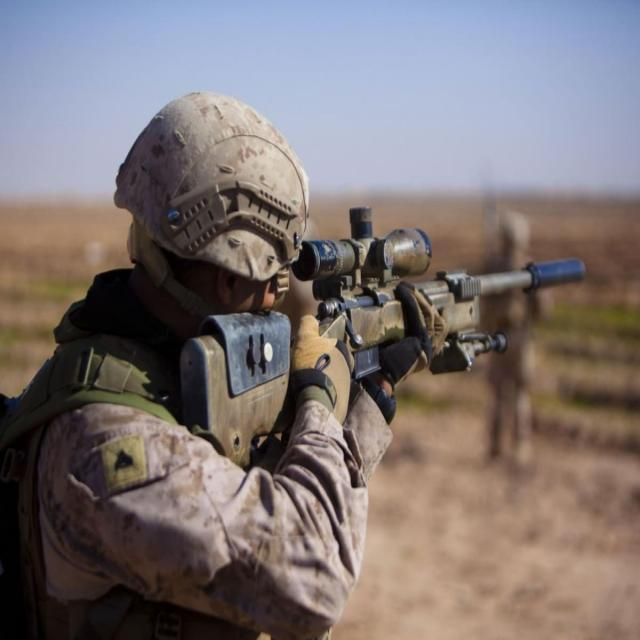rifle: (180, 202, 616, 462)
